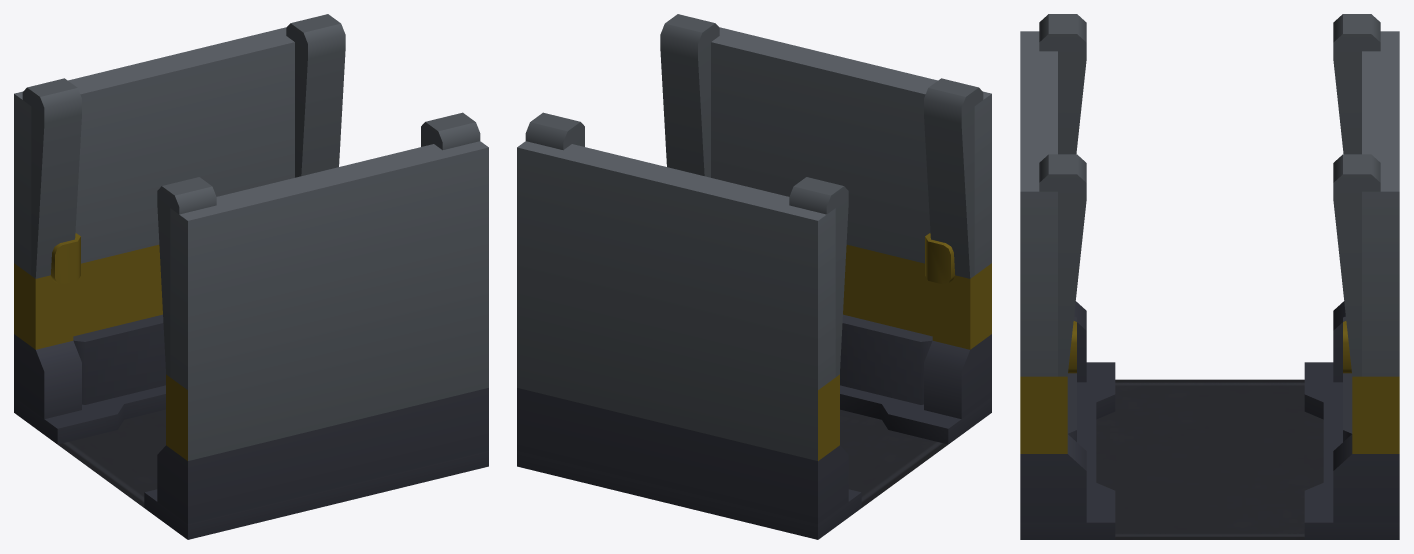
Rendered from k_corridor.glb.
3 views of the same model, side by side, from view 1: azimuth 30°, elevation 25°; view 2: azimuth 150°, elevation 25°; view 3: azimuth 270°, elevation 25° (orthographic). The views are drawn at different scales.
Visible parts, largest first — view 1: corridor; view 2: corridor; view 3: corridor.
Boxes of the visible parts, x1,y1,x2,y2 form: corridor: (14,14,488,539); corridor: (517,14,991,539); corridor: (1020,14,1399,539).
Size of the model in its own units: 4 by 4.25 by 4.
1 material, 1 textured.
